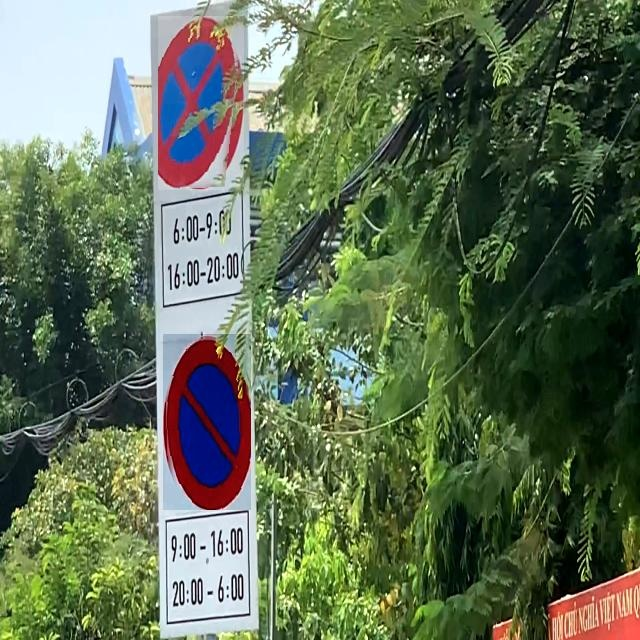bien_cam: (163, 334, 251, 510), (158, 16, 244, 190)
